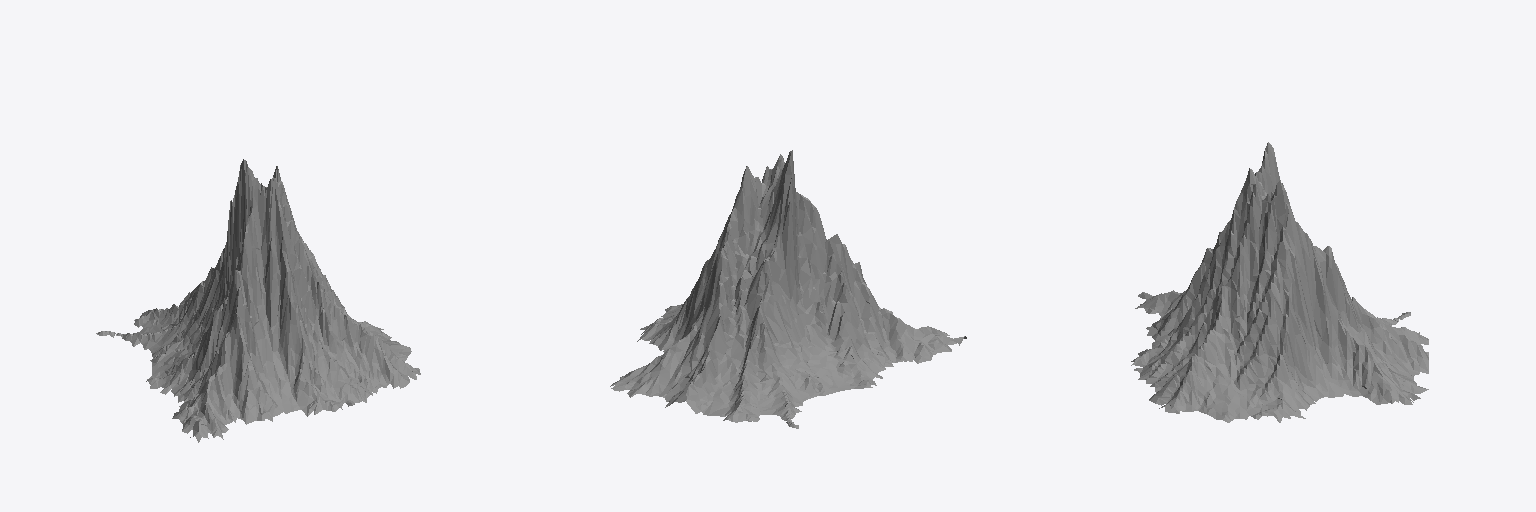
The model's file is Mountain01.obj.
The picture shows the model from 3 angles: view 1: azimuth 30°, elevation 25°; view 2: azimuth 150°, elevation 25°; view 3: azimuth 270°, elevation 25°; orthographic projection.
Visible parts, largest first — view 1: mt1; view 2: mt1; view 3: mt1.
Boxes of the visible parts, box(x1,y1,x2,y2) form: mt1: box(96, 159, 420, 442); mt1: box(610, 150, 966, 428); mt1: box(1131, 142, 1428, 422).
Size of the model in its own units: 392 by 307 by 392.